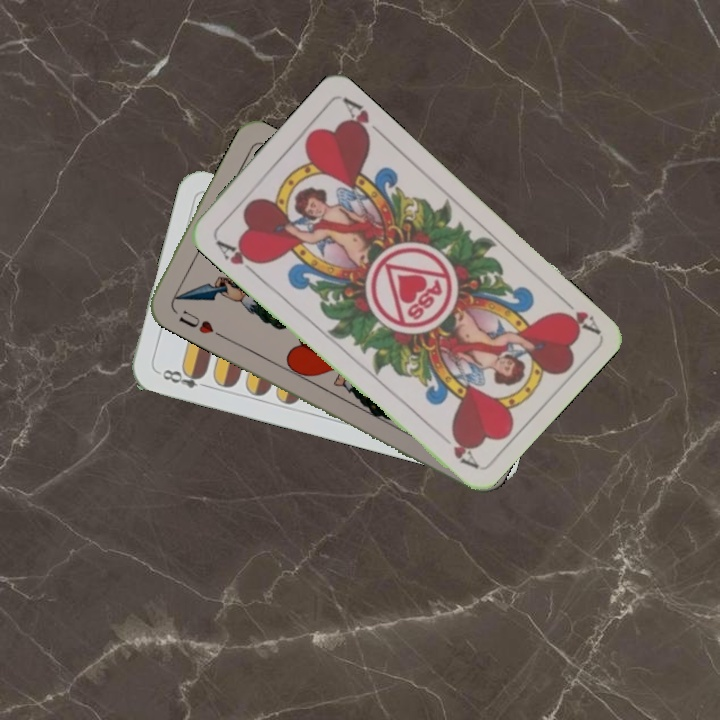E8: (158, 364, 212, 391)
HA: (211, 234, 264, 278), (553, 290, 601, 336)
HU: (175, 306, 224, 339)
